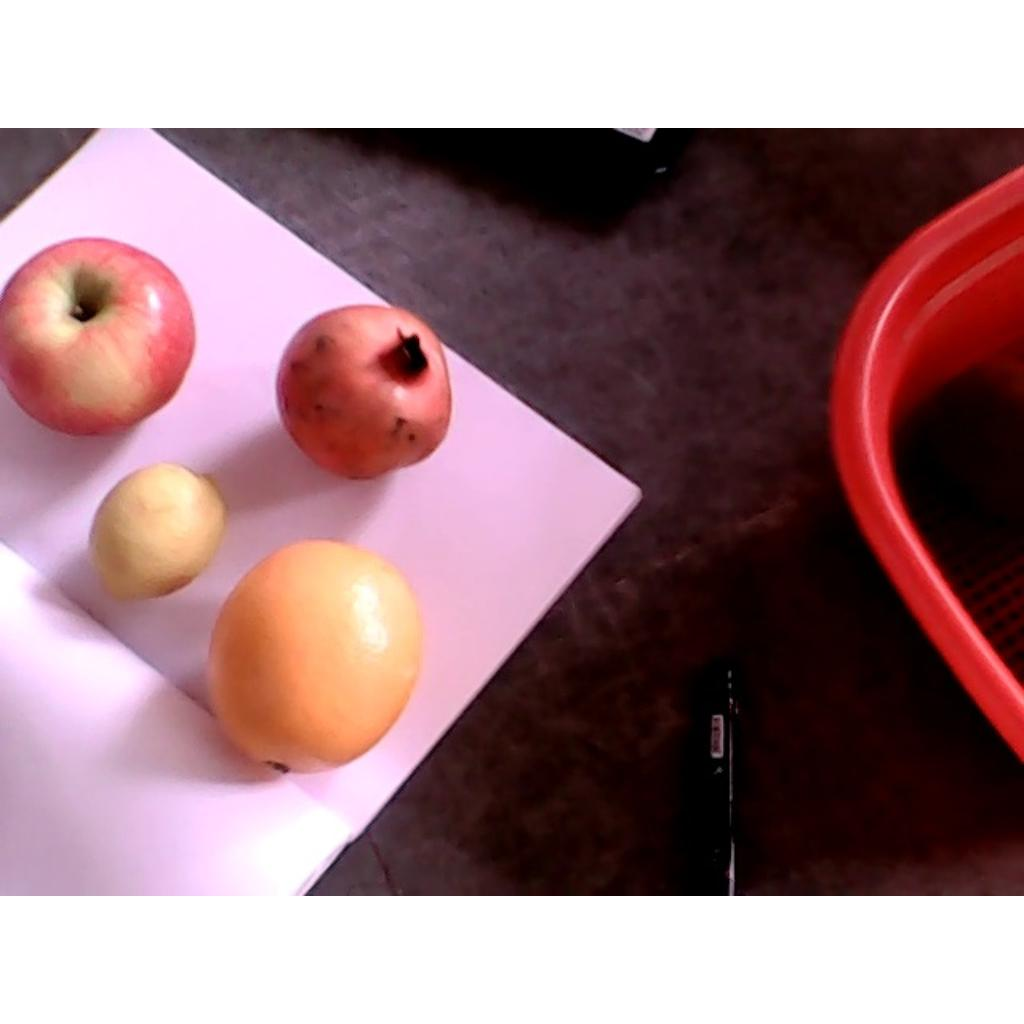apple: (0, 239, 196, 435)
lemon: (86, 462, 227, 598)
orange: (203, 535, 423, 775)
pomegranate: (275, 304, 451, 482)
